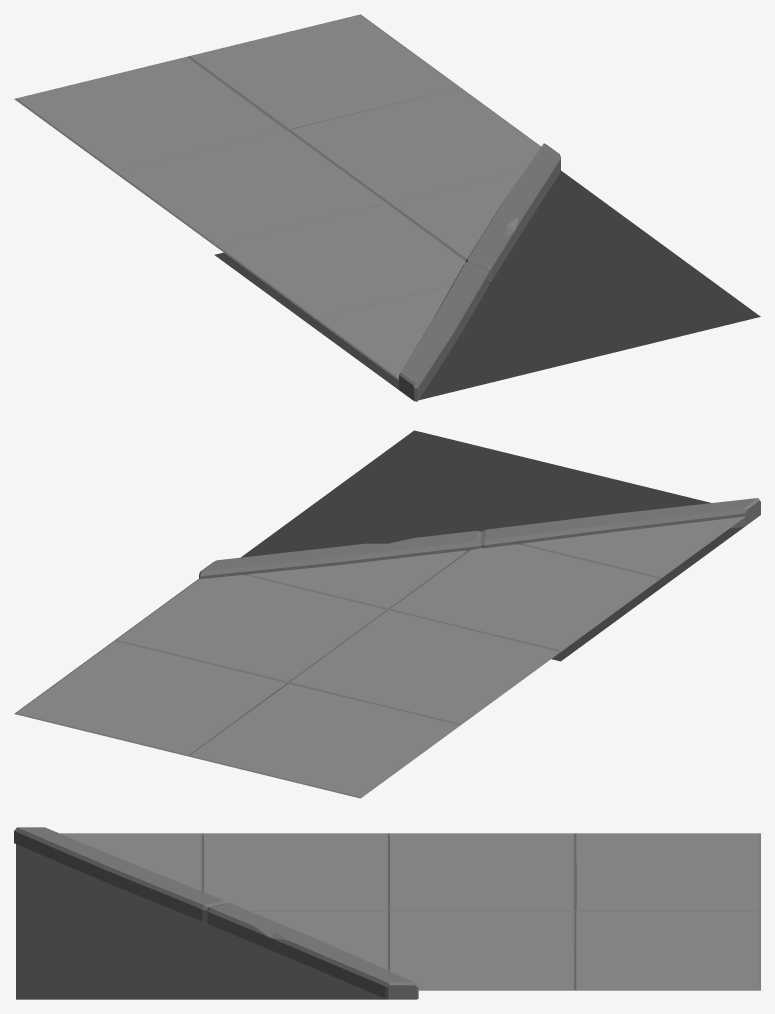
Rendered from SM_Envr_Road_Sidewalk_Split.fbx.
3 renders of one model, top to bottom at view 1: azimuth 30°, elevation 25°; view 2: azimuth 150°, elevation 25°; view 3: azimuth 270°, elevation 25°, orthographic. The views are drawn at different scales.
Parts seen in each view (by area): view 1: SM_Envr_Road_Sidewalk_Split; view 2: SM_Envr_Road_Sidewalk_Split; view 3: SM_Envr_Road_Sidewalk_Split.
Part boxes in pixels (x1,y1,x2,y2): SM_Envr_Road_Sidewalk_Split: (14, 14, 760, 401); SM_Envr_Road_Sidewalk_Split: (14, 430, 760, 798); SM_Envr_Road_Sidewalk_Split: (14, 827, 760, 999).
Size of the model in its own units: 500 by 23.33 by 1003.
